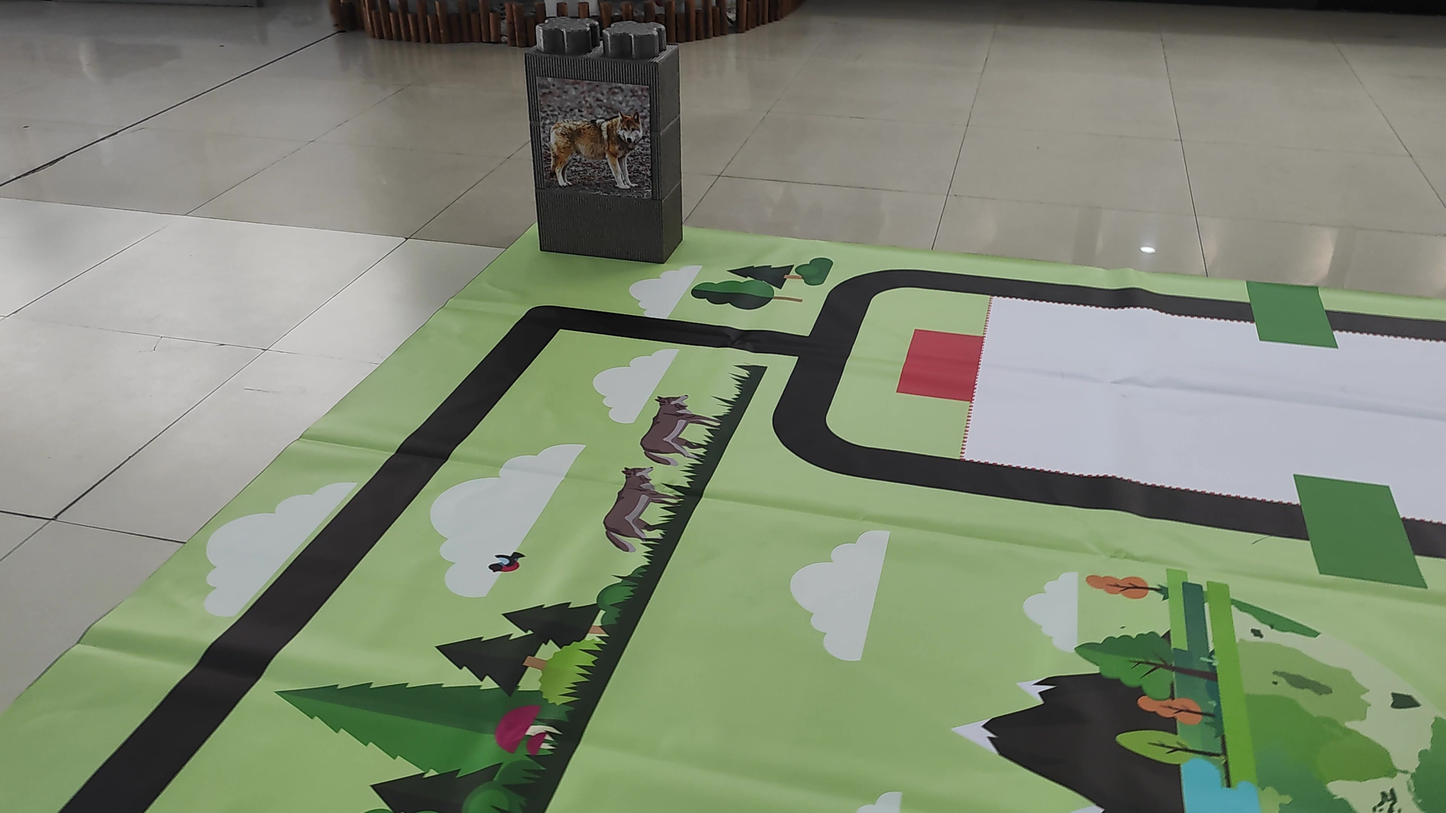wolf: (544, 113, 654, 215)
